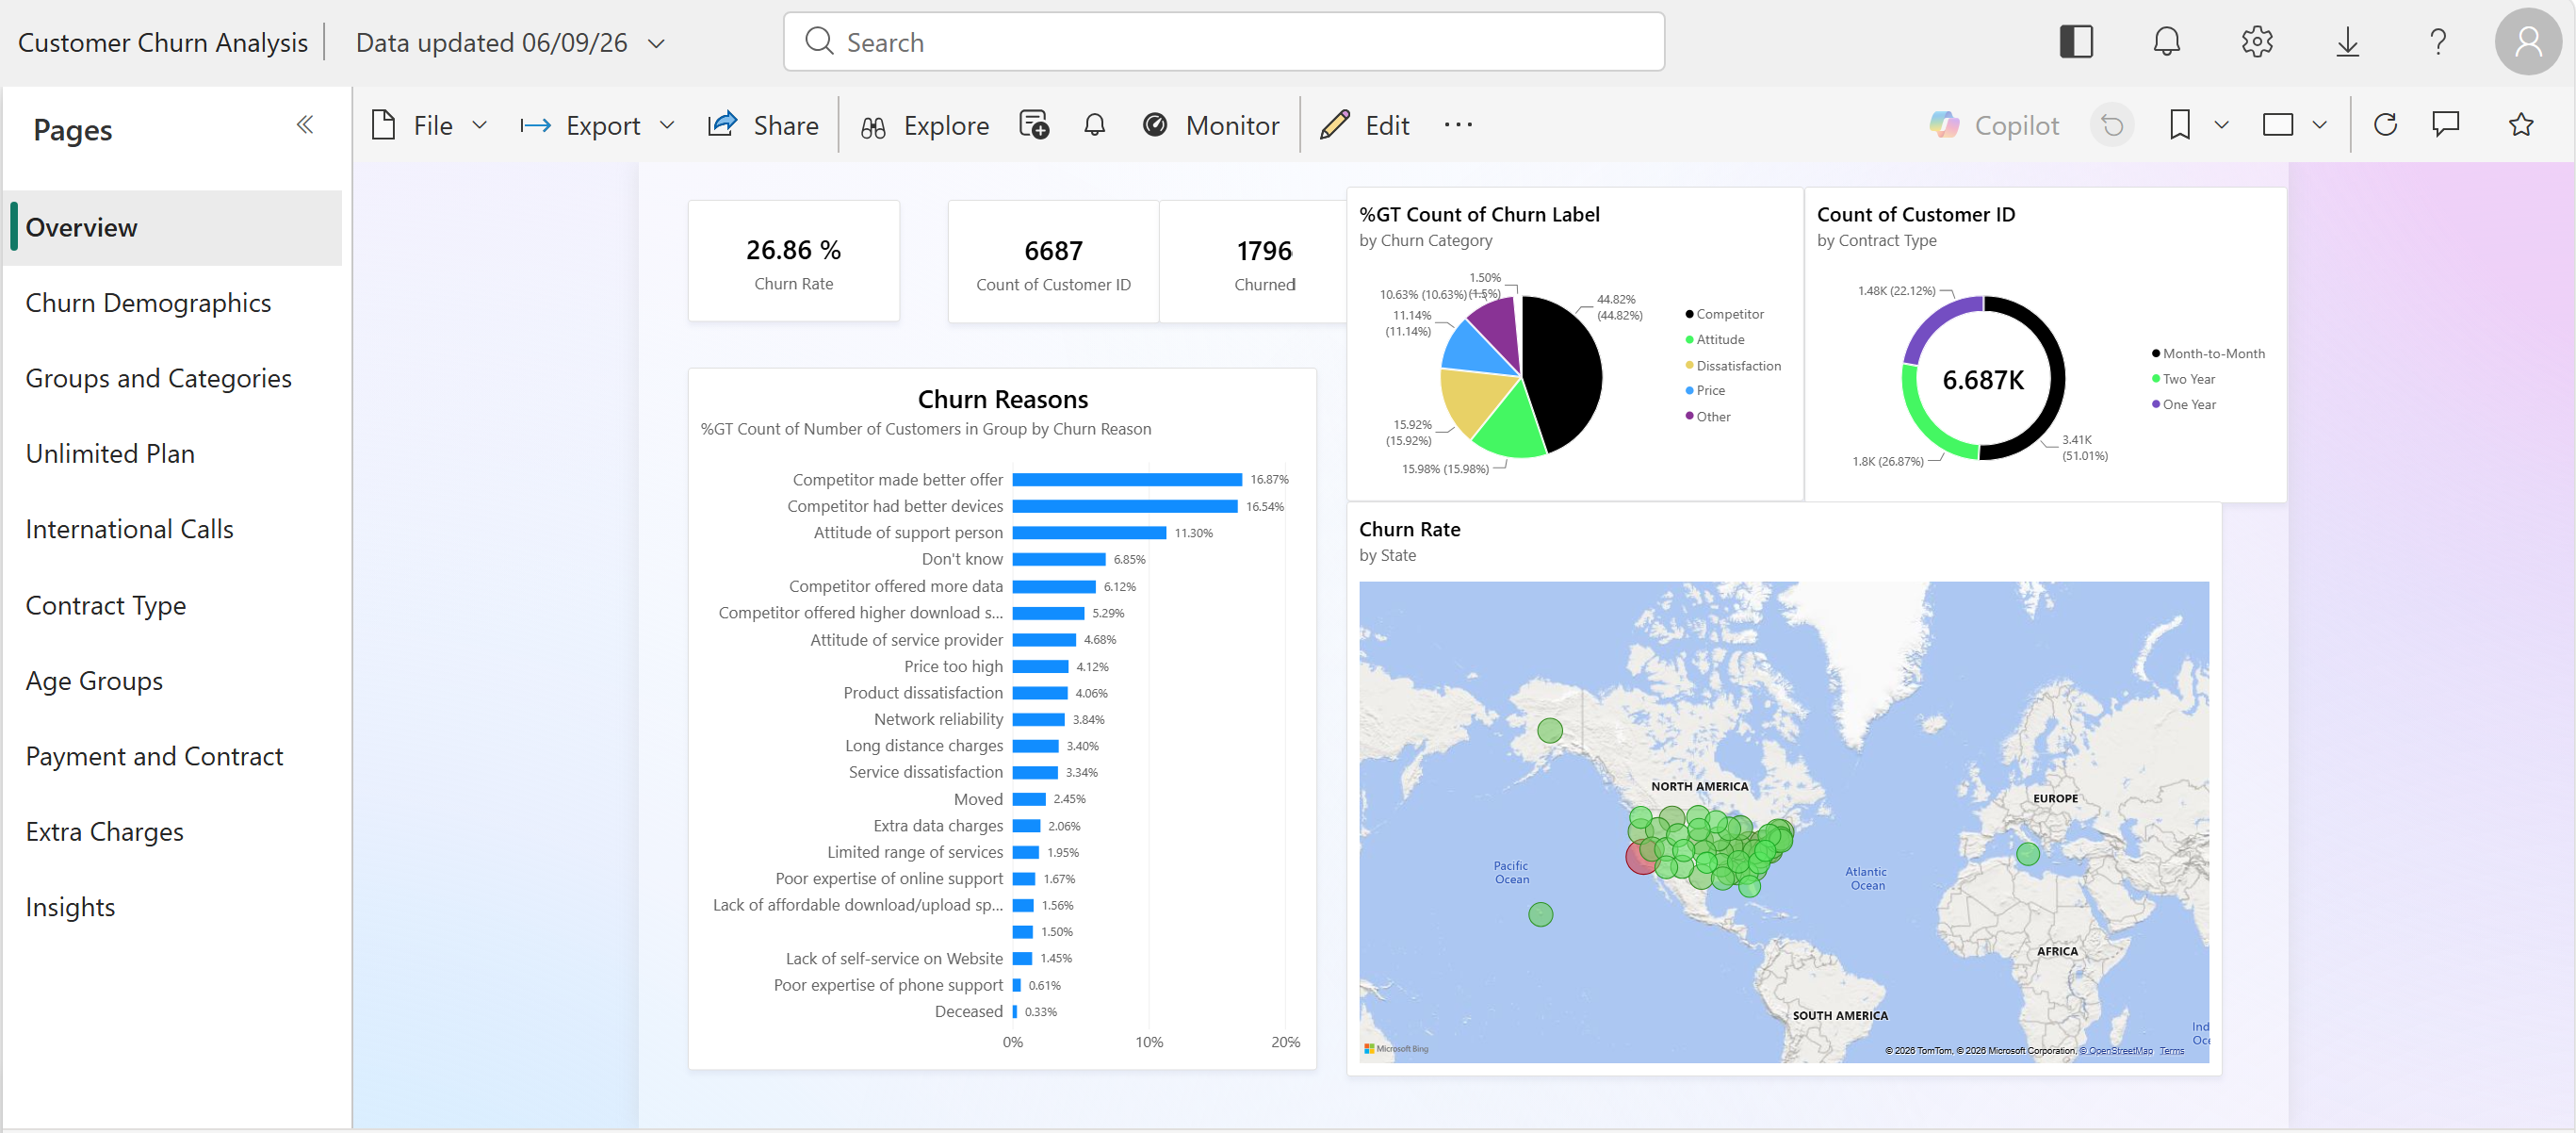

What the dashboard file says about the page in this screenshot:
{"tool":"powerbi","page":{"name":"Overview","canvas":[1640,960],"ordinal":0},"visuals":[{"type":"card","fields":{"Values":["Databel - Data.Churn Rate"]},"box":[48.9,37.1,211.2,123.2],"z":0},{"type":"card","fields":{"Values":["Count(Databel - Data.Customer ID)"]},"box":[269,36.7,209.9,124.3],"z":1000},{"type":"card","fields":{"Values":["Sum(Databel - Data.Churned)"]},"box":[487.1,36.7,212,124.3],"z":2000},{"type":"clusteredBarChart","title":"Churn Reasons","fields":{"Category":["Databel - Data.Churn Reason"],"Y":["CountNonNull(Databel - Data.Number of Customers in Group)"]},"box":[48.9,205.3,625.7,698],"z":3000},{"type":"donutChart","fields":{"Category":["Databel - Data.Contract Type"],"Y":["Count(Databel - Data.Customer ID)"]},"box":[1159.4,23.5,481,314.8],"z":4000},{"type":"pieChart","fields":{"Category":["Databel - Data.Churn Category"],"Y":["CountNonNull(Databel - Data.Churn Label)"]},"box":[703.9,23.5,455.6,312.8],"z":5000},{"type":"map","fields":{"Category":["Databel - Data.State"],"Size":["Databel - Data.Churn Rate"]},"box":[703.9,338.2,872,570.9],"z":6000}]}

Visuals, with their boxes on the page's 1640x960 design canvas (x1, y1, x2, y2). These are canvas units, not pixel positions in the 2576x1133 screenshot, which may show the page scaled, cropped or inside an application window:
card - Databel - Data.Churn Rate: bbox(49, 37, 260, 160)
card - Count(Databel - Data.Customer ID): bbox(269, 37, 479, 161)
card - Sum(Databel - Data.Churned): bbox(487, 37, 699, 161)
"Churn Reasons" clusteredBarChart: bbox(49, 205, 675, 903)
donutChart - Databel - Data.Contract Type x Count(Databel - Data.Customer ID): bbox(1159, 24, 1640, 338)
pieChart - Databel - Data.Churn Category x CountNonNull(Databel - Data.Churn Label): bbox(704, 24, 1160, 336)
map - Databel - Data.State x Databel - Data.Churn Rate: bbox(704, 338, 1576, 909)
